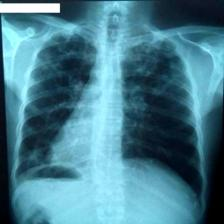tuberculosis: (11, 20, 206, 212)
